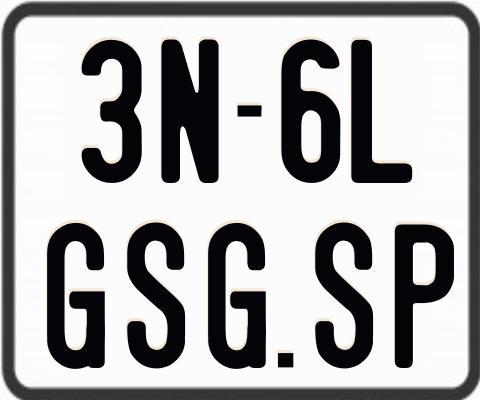3: (80, 37, 144, 181)
6: (281, 39, 343, 188)
G: (205, 220, 269, 368), (45, 221, 107, 369)
L: (348, 37, 410, 181)
N: (160, 37, 220, 182)
P: (394, 224, 458, 373)
S: (315, 222, 379, 368), (126, 222, 188, 370)
